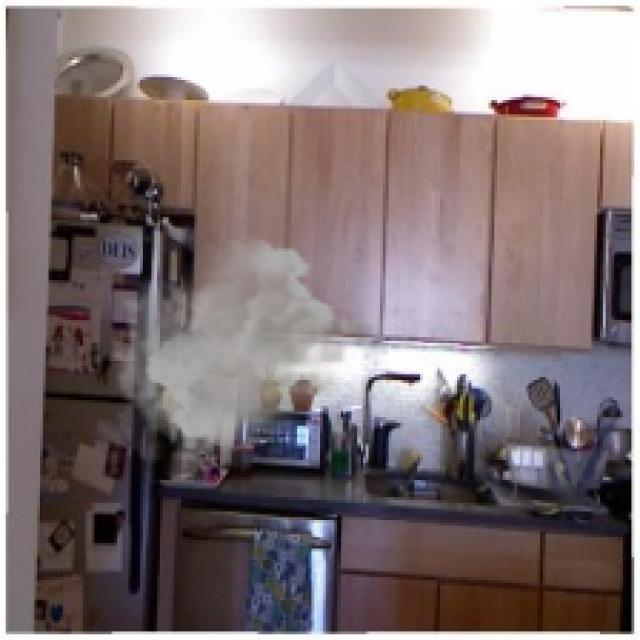Smoke: (109, 234, 388, 483)
